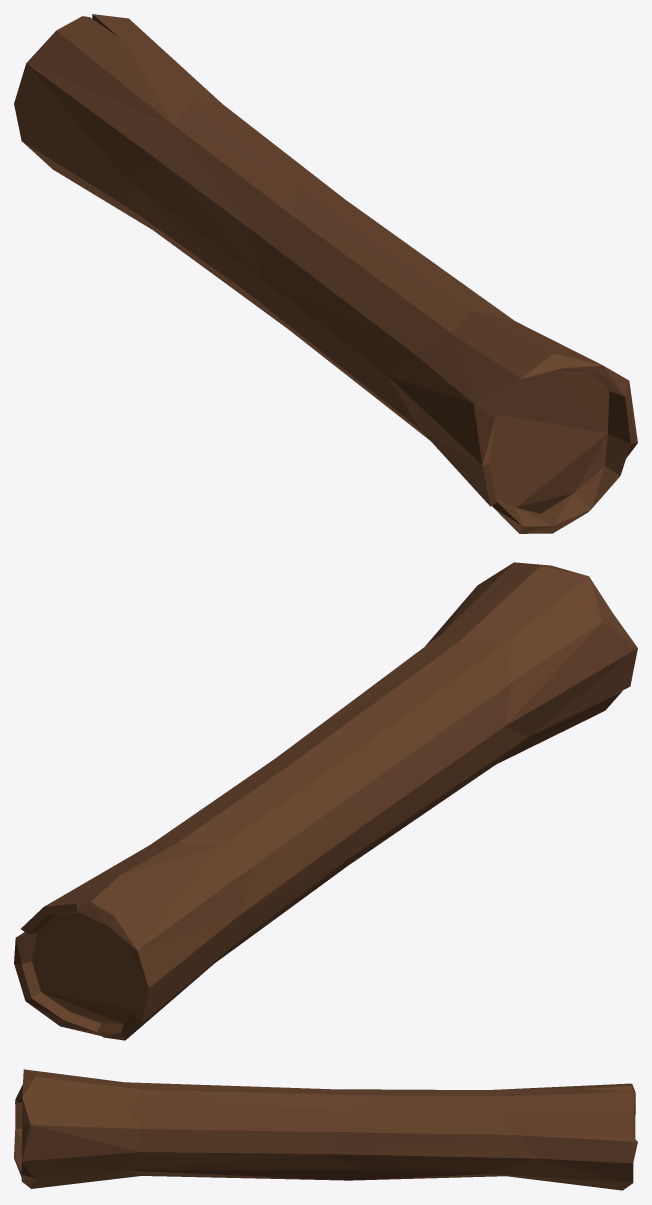
Rendered from Trunk Wood_1.fbx.
The picture shows the model from 3 angles, top to bottom: view 1: azimuth 30°, elevation 25°; view 2: azimuth 150°, elevation 25°; view 3: azimuth 270°, elevation 25°; orthographic projection. The views are drawn at different scales.
Visible parts, largest first — view 1: M_Trunk Wood 1; view 2: M_Trunk Wood 1; view 3: M_Trunk Wood 1.
Part boxes in pixels (x1=…): M_Trunk Wood 1: x1=14, y1=14, x2=637, y2=533; M_Trunk Wood 1: x1=14, y1=562, x2=637, y2=1040; M_Trunk Wood 1: x1=14, y1=1069, x2=637, y2=1190.
Bounding box in the file's own units: 16.8 × 15.75 × 83.9.
Materials: 1 (1 with a texture image).
